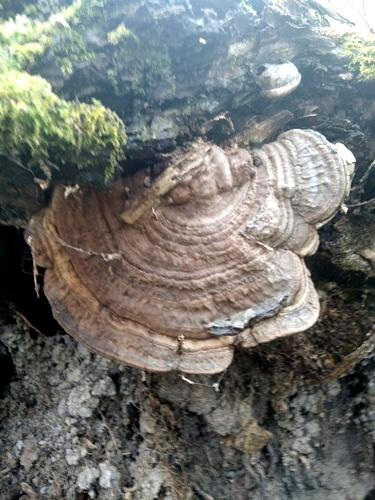Ganoderma - Fruit Body: (16, 122, 363, 390)
